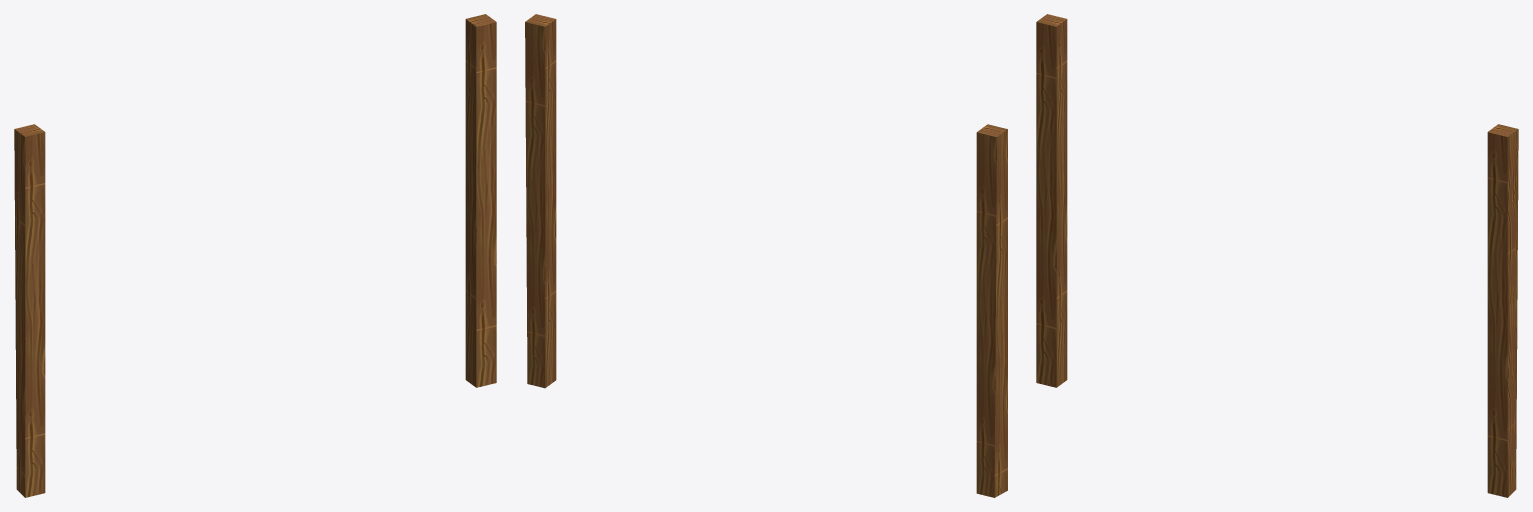
The picture shows the model from 3 angles, left to right: view 1: azimuth 30°, elevation 25°; view 2: azimuth 150°, elevation 25°; view 3: azimuth 330°, elevation 25°; orthographic projection.
Visible parts, largest first — view 1: Cube.1596; view 2: Cube.1596; view 3: Cube.1596.
Boxes of the visible parts, left/top/right/bottom form: Cube.1596: left=14, top=14, right=496, bottom=497; Cube.1596: left=525, top=14, right=1007, bottom=497; Cube.1596: left=1036, top=14, right=1518, bottom=497.
Size of the model in its own units: 1048 by 767 by 41.93.
Materials: 1 (1 with a texture image).
